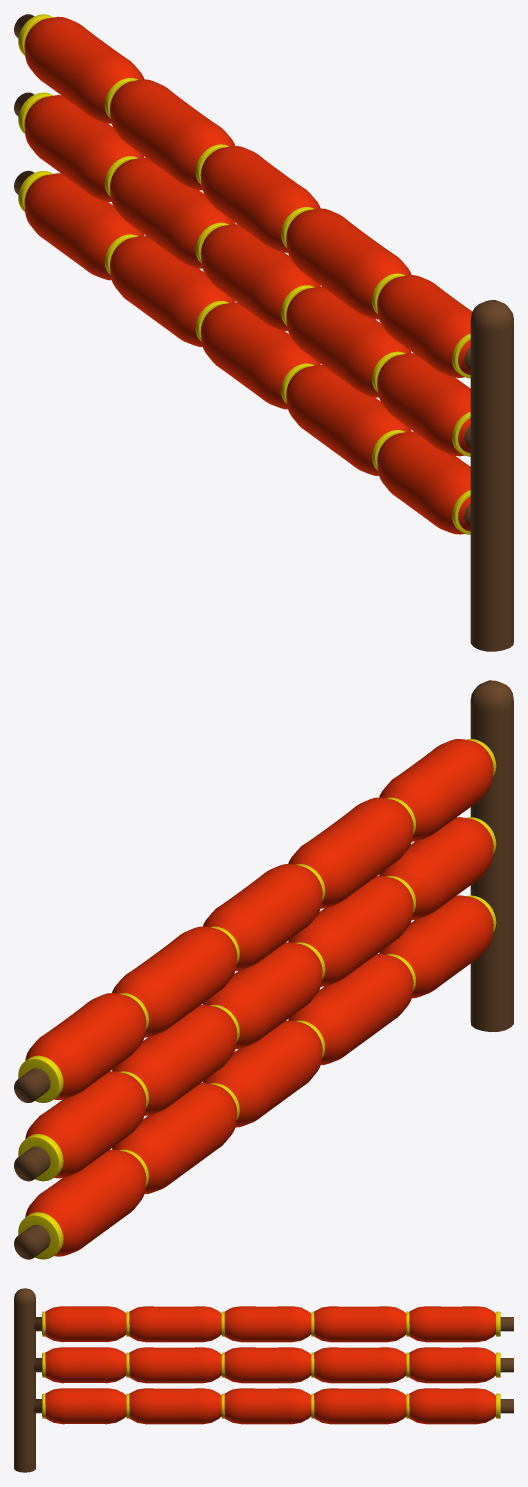
The model's file is Padded_Fence_Set.fbx.
3 renders of one model, top to bottom at view 1: azimuth 30°, elevation 25°; view 2: azimuth 150°, elevation 25°; view 3: azimuth 270°, elevation 25°, orthographic. The views are drawn at different scales.
Parts seen in each view (by area): view 1: Padded_Fence_Set; view 2: Padded_Fence_Set; view 3: Padded_Fence_Set.
Part boxes in pixels (left/top/right/bottom): Padded_Fence_Set: left=14, top=14, right=513, bottom=651; Padded_Fence_Set: left=14, top=680, right=513, bottom=1259; Padded_Fence_Set: left=14, top=1288, right=513, bottom=1472.
Size of the model in its own units: 122 by 662 by 1684.
